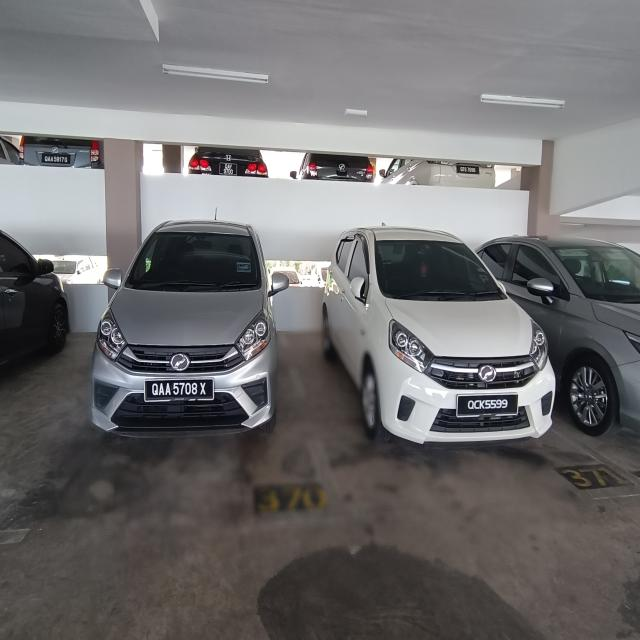PeroduaAxia: (97, 202, 286, 454), (340, 213, 518, 456)
